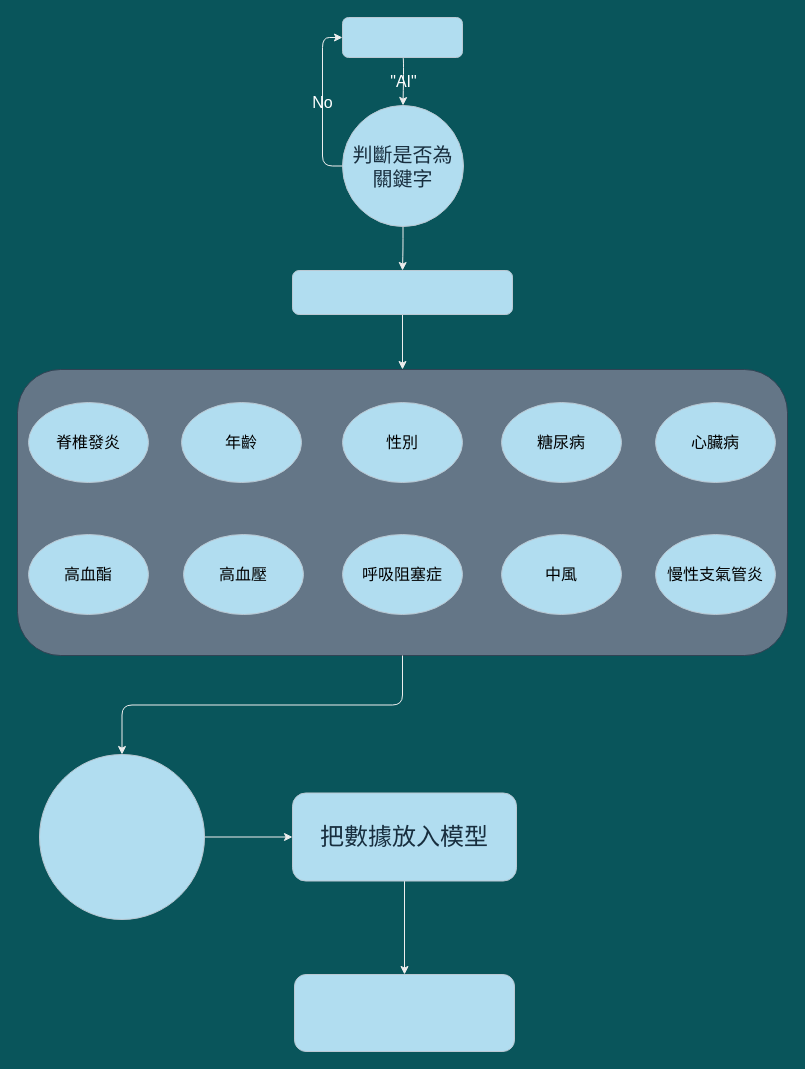
Some shapes in this 805 by 1069 pixel diagram are drawn without their labels. The box of each missing label's shape, as (x1, y1, x2, y2) in pixels:
獲得五十肩的風險機率: (294, 974, 514, 1052)
輸入關鍵字: (342, 16, 462, 58)
通過使用者的回答得到數據: (38, 754, 204, 920)
開始詢問問題: (292, 270, 512, 314)
